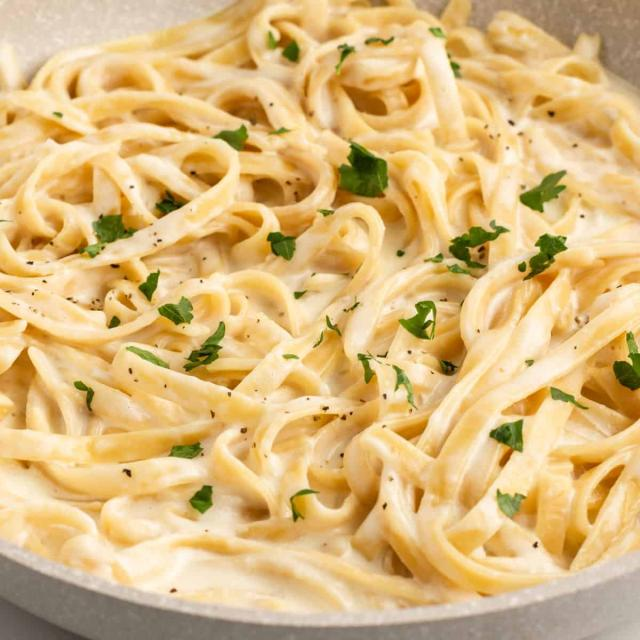pasta: (3, 4, 637, 636)
